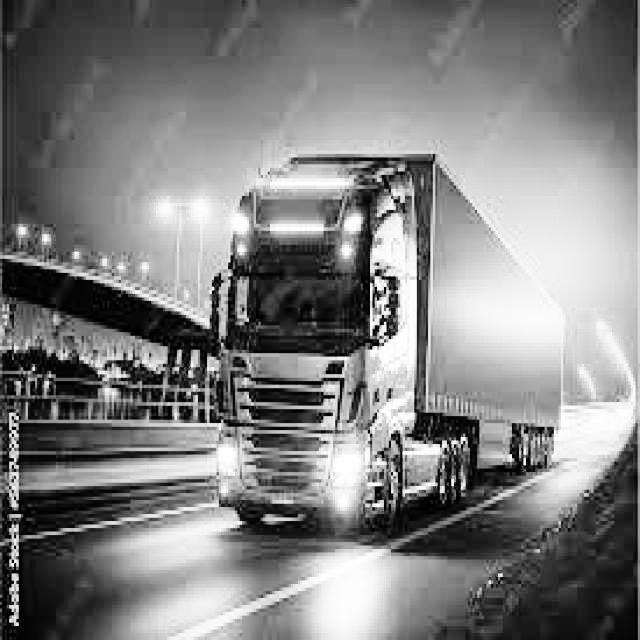Truck: (207, 147, 566, 532)
